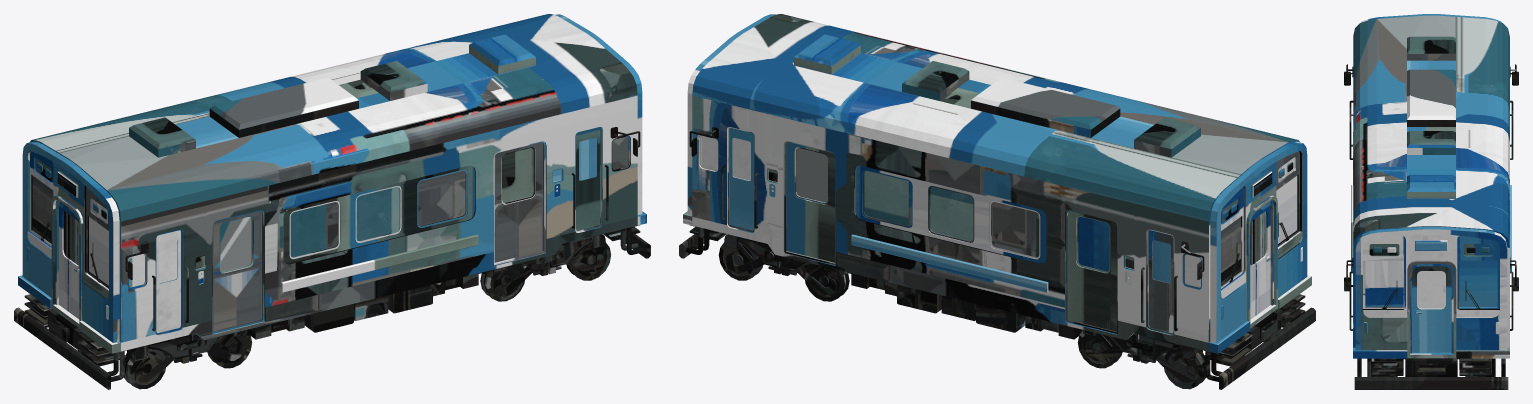
Rendered from Train.obj.
The picture shows the model from 3 angles, left to right: view 1: azimuth 30°, elevation 25°; view 2: azimuth 150°, elevation 25°; view 3: azimuth 270°, elevation 25°; orthographic projection. The views are drawn at different scales.
Visible parts, largest first — view 1: Plane, Cube.004; view 2: Plane, Cube.004; view 3: Plane, Cube.004.
Part boxes in pixels (x1,y1,x2,y2): Plane: (18,14,646,353); Cube.004: (14,127,650,389); Plane: (683,14,1311,353); Cube.004: (679,127,1315,389); Plane: (1351,14,1511,358); Cube.004: (1344,64,1518,389).
Size of the model in its own units: 11.29 by 4.29 by 3.73.
2 materials, 2 textured.
